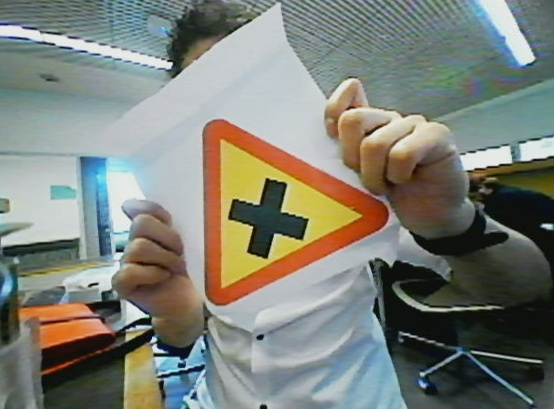junction: (199, 116, 385, 302)
